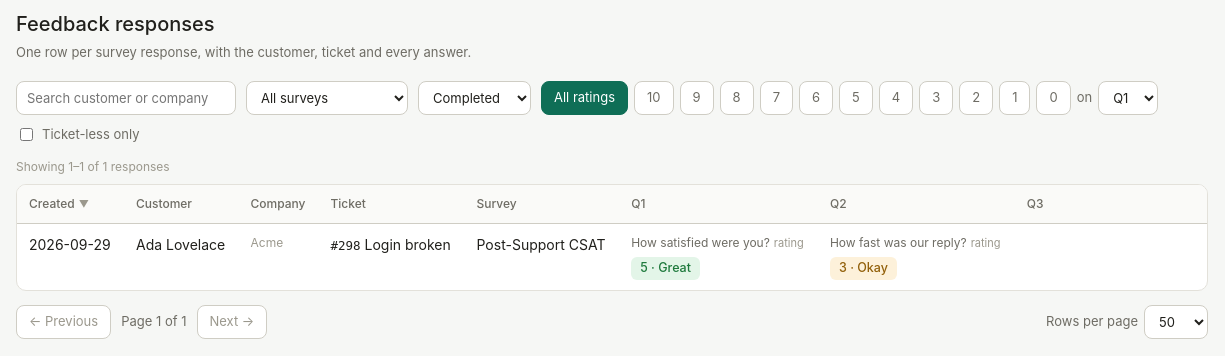
Test: FeedbackTablePage › custom rating labels (Req 1) › only offers label editing once a survey is selected
The width and height of the screenshot is (1225, 356).
Check: the button "Edit labels" is not shown
Select "Post-Support CSAT" in the 1st dropdown named "Survey": (327, 98) [246,80,408,114]
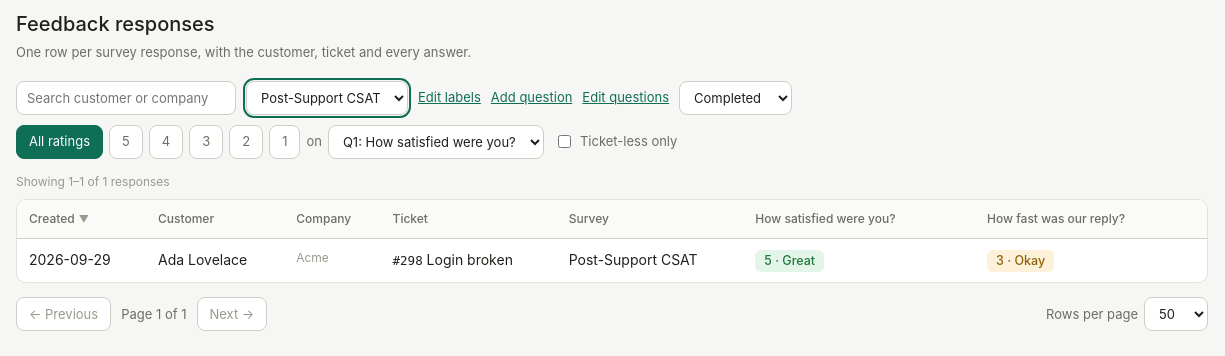
Check: the button "Edit labels" is shown, box [418,88,481,107]
